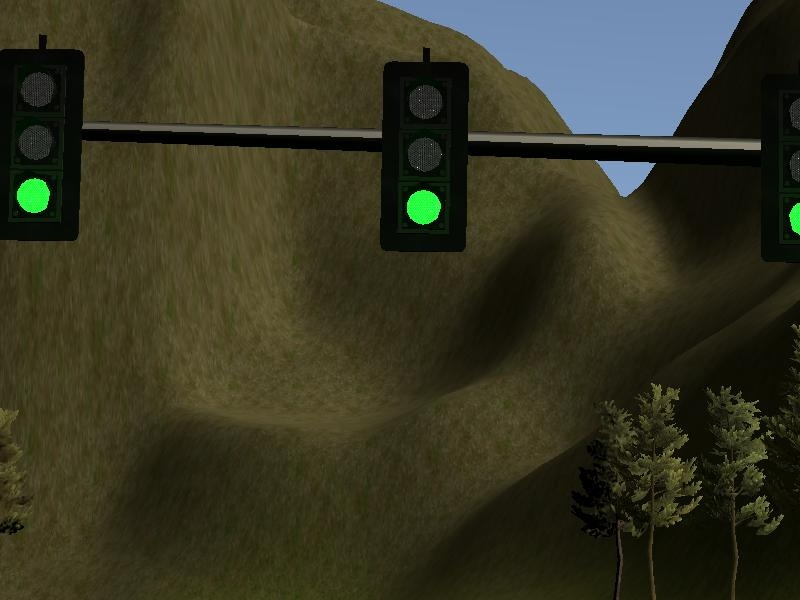GREEN: (379, 62, 468, 254), (1, 51, 83, 242)
